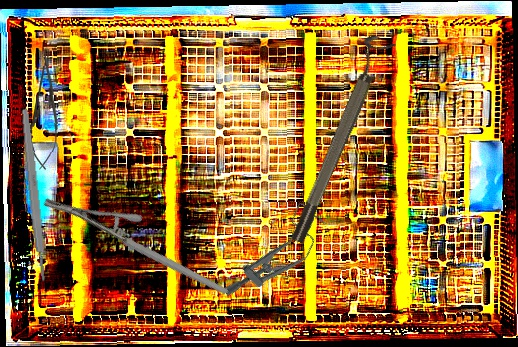Fixation Ring: (278, 32, 397, 246)
Needle Holder: (40, 150, 230, 344), (28, 47, 62, 171)
Scalpel Handle: (19, 107, 49, 283)
Speculum: (215, 197, 337, 316)
